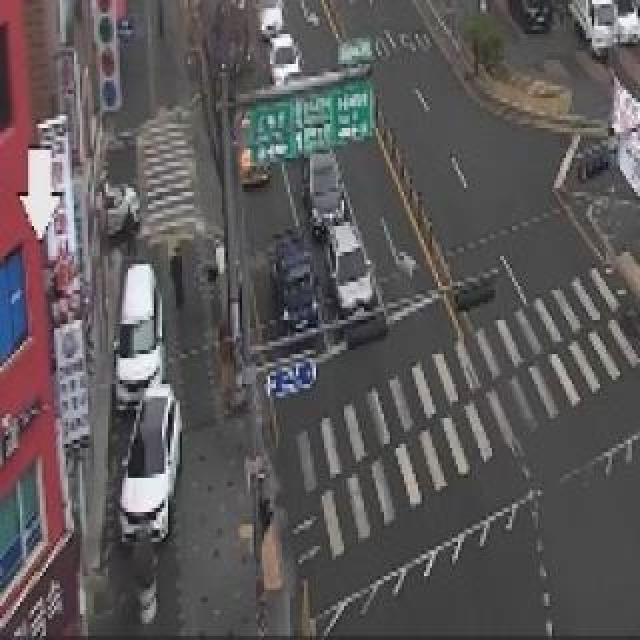truck: (259, 219, 323, 355), (564, 0, 618, 62)
